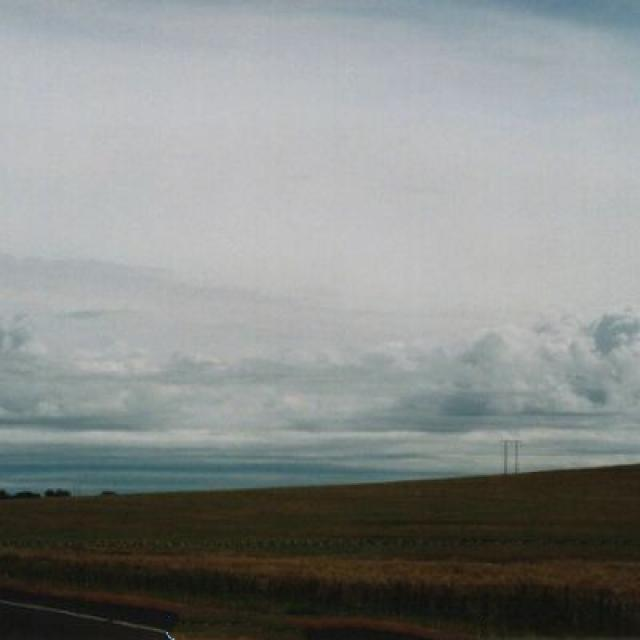Cs: (1, 192, 640, 427)
